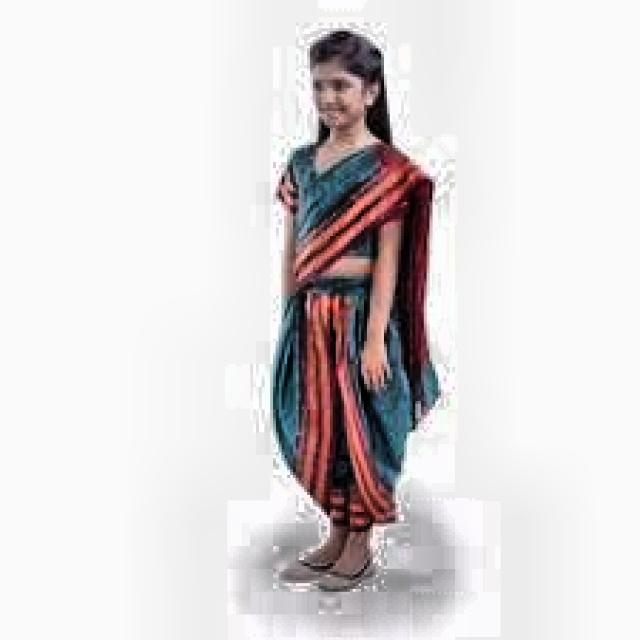Human: (256, 23, 411, 589)
